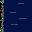Interaction: (0, 0, 8, 32)
Slow: (5, 0, 32, 32)
